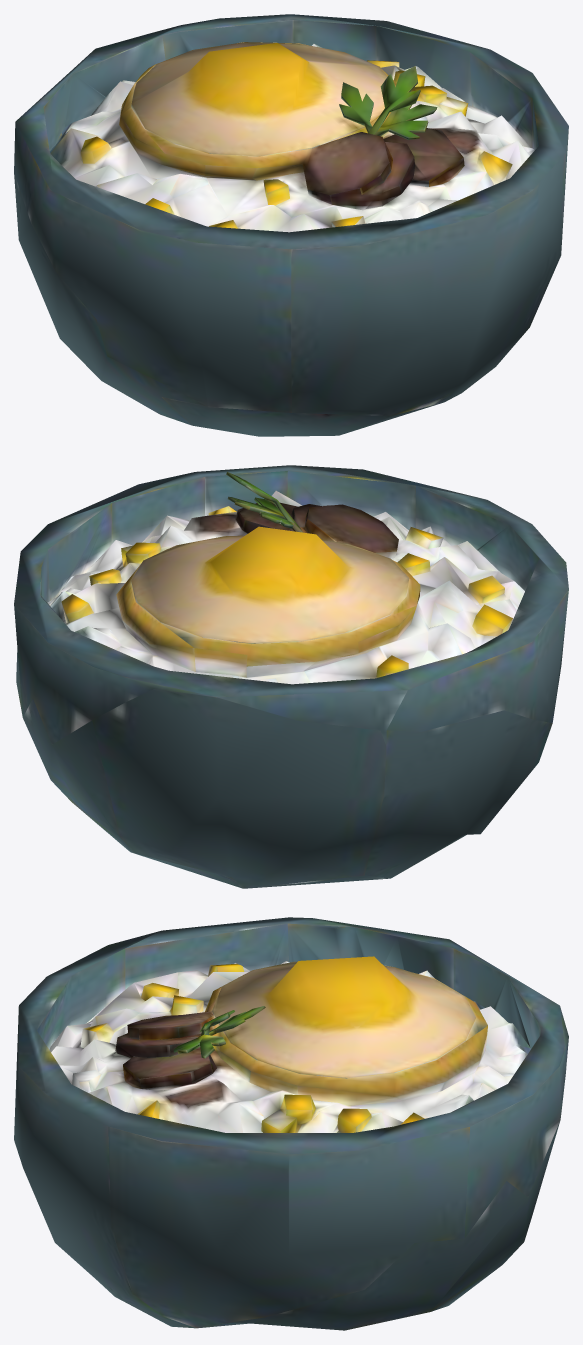
Rendered from g_songlufan.glb.
The picture shows the model from 3 angles, top to bottom: view 1: azimuth 30°, elevation 25°; view 2: azimuth 150°, elevation 25°; view 3: azimuth 270°, elevation 25°; orthographic projection.
Parts seen in each view (by area): view 1: node_0; view 2: node_0; view 3: node_0.
Part boxes in pixels (x1,y1,x2,y2): node_0: [14, 14, 568, 436]; node_0: [14, 465, 568, 888]; node_0: [14, 917, 568, 1330].
Bounding box in the file's own units: 1.14 × 0.6655 × 1.13.
Materials: 1 (1 with a texture image).
